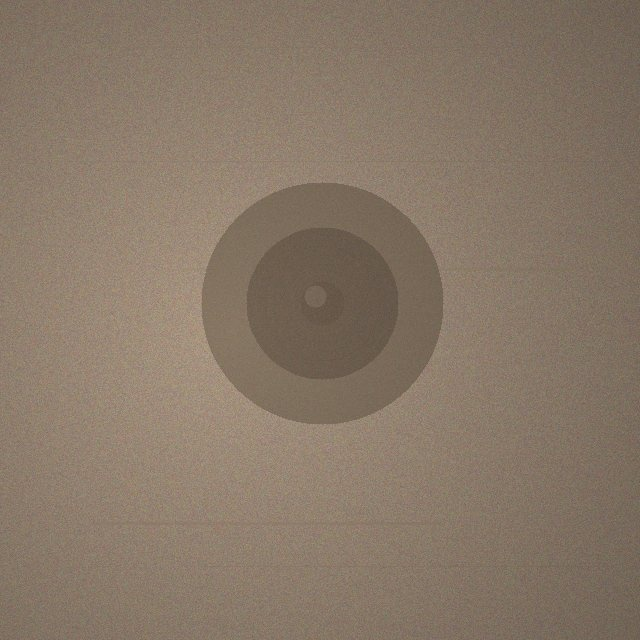good: (201, 182, 443, 424)
